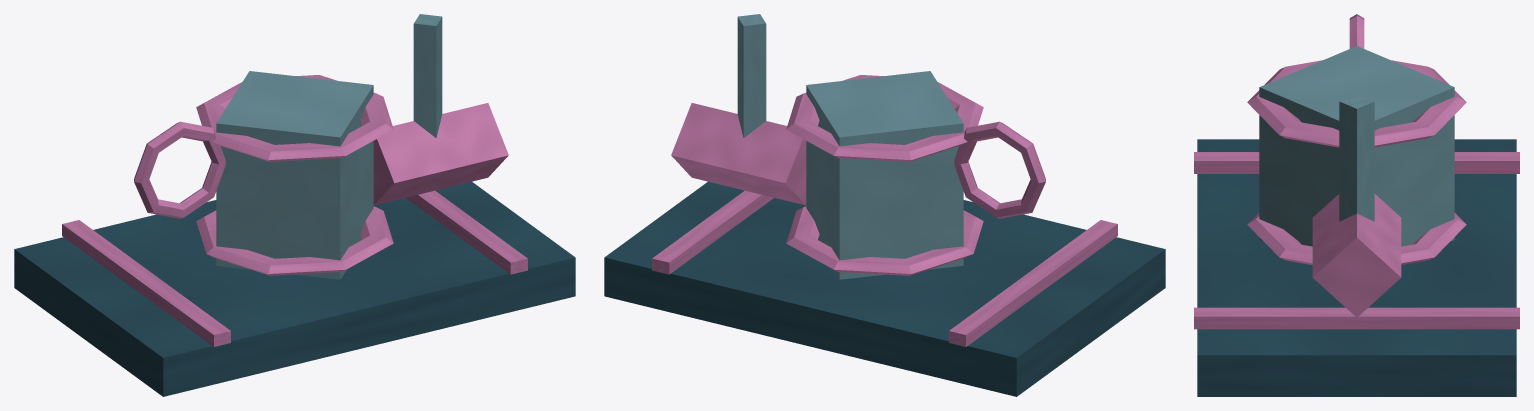
The model's file is atlas100-s064-a02.lod2.glb.
The picture shows the model from 3 angles, left to right: view 1: azimuth 30°, elevation 25°; view 2: azimuth 150°, elevation 25°; view 3: azimuth 270°, elevation 25°; orthographic projection. The views are drawn at different scales.
Visible parts, largest first — view 1: atlas100-s064-a02:part-000, atlas100-s064-a02:part-003, atlas100-s064-a02:part-007, atlas100-s064-a02:part-001, atlas100-s064-a02:part-005, atlas100-s064-a02:part-004, atlas100-s064-a02:part-009, atlas100-s064-a02:part-008, atlas100-s064-a02:part-002; view 2: atlas100-s064-a02:part-000, atlas100-s064-a02:part-003, atlas100-s064-a02:part-007, atlas100-s064-a02:part-001, atlas100-s064-a02:part-005, atlas100-s064-a02:part-004, atlas100-s064-a02:part-009, atlas100-s064-a02:part-008, atlas100-s064-a02:part-002; view 3: atlas100-s064-a02:part-000, atlas100-s064-a02:part-003, atlas100-s064-a02:part-007, atlas100-s064-a02:part-002, atlas100-s064-a02:part-005, atlas100-s064-a02:part-008, atlas100-s064-a02:part-004, atlas100-s064-a02:part-001, atlas100-s064-a02:part-009.
Boxes of the visible parts, bbox=[...] form: atlas100-s064-a02:part-000: bbox=[14, 181, 575, 396]; atlas100-s064-a02:part-003: bbox=[216, 71, 373, 279]; atlas100-s064-a02:part-007: bbox=[373, 103, 508, 205]; atlas100-s064-a02:part-001: bbox=[62, 220, 230, 346]; atlas100-s064-a02:part-005: bbox=[196, 75, 393, 161]; atlas100-s064-a02:part-004: bbox=[196, 206, 393, 275]; atlas100-s064-a02:part-009: bbox=[134, 121, 225, 218]; atlas100-s064-a02:part-008: bbox=[413, 14, 442, 137]; atlas100-s064-a02:part-002: bbox=[406, 190, 527, 274]; atlas100-s064-a02:part-000: bbox=[604, 181, 1165, 396]; atlas100-s064-a02:part-003: bbox=[806, 71, 963, 279]; atlas100-s064-a02:part-007: bbox=[671, 103, 806, 205]; atlas100-s064-a02:part-001: bbox=[949, 220, 1117, 346]; atlas100-s064-a02:part-005: bbox=[786, 75, 983, 161]; atlas100-s064-a02:part-004: bbox=[786, 206, 983, 275]; atlas100-s064-a02:part-009: bbox=[954, 121, 1045, 218]; atlas100-s064-a02:part-008: bbox=[737, 14, 766, 137]; atlas100-s064-a02:part-002: bbox=[652, 190, 773, 274]; atlas100-s064-a02:part-000: bbox=[1197, 139, 1516, 396]; atlas100-s064-a02:part-003: bbox=[1259, 46, 1454, 246]; atlas100-s064-a02:part-007: bbox=[1312, 194, 1401, 317]; atlas100-s064-a02:part-002: bbox=[1194, 307, 1519, 329]; atlas100-s064-a02:part-005: bbox=[1247, 60, 1466, 147]; atlas100-s064-a02:part-008: bbox=[1339, 94, 1374, 221]; atlas100-s064-a02:part-004: bbox=[1247, 212, 1466, 264]; atlas100-s064-a02:part-001: bbox=[1194, 152, 1519, 173]; atlas100-s064-a02:part-009: bbox=[1349, 14, 1364, 48].
Size of the model in its own units: 2.88 by 1.6 by 1.84.
3 materials, 3 textured.
